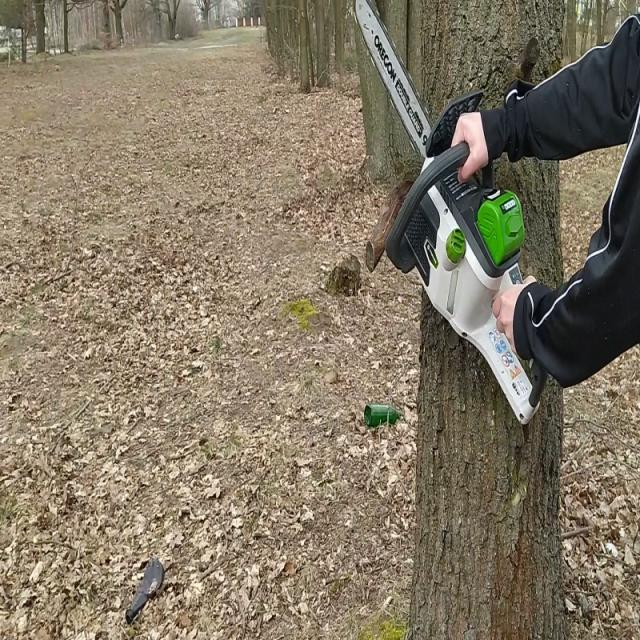Chainsaw: (344, 0, 553, 432)
